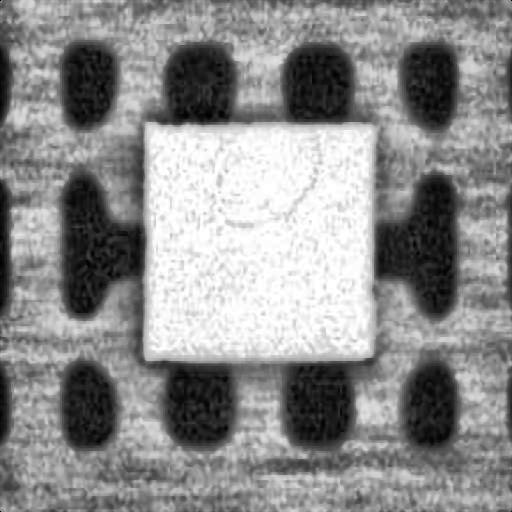DIE_CRACK: (218, 170, 313, 228)
